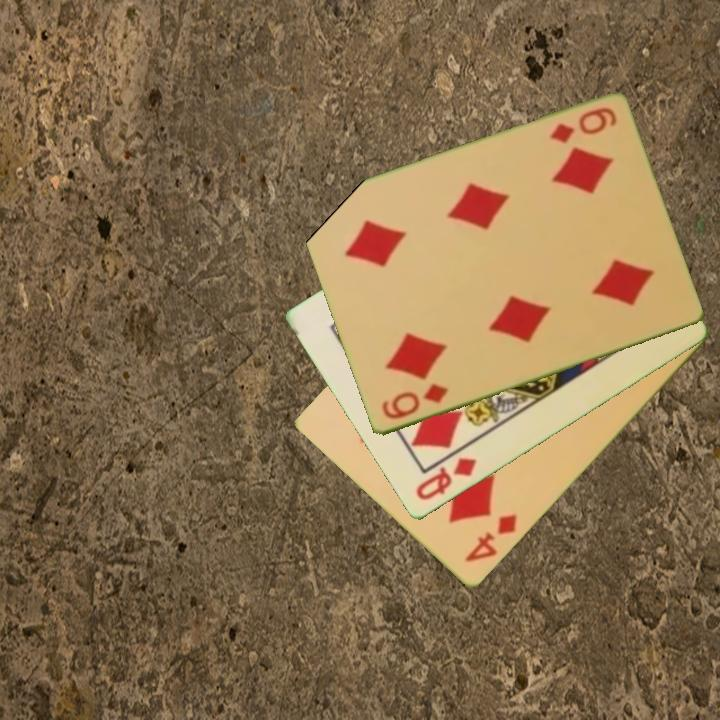4d: (461, 511, 520, 566)
6d: (545, 104, 620, 147), (377, 380, 451, 423)
Qd: (412, 454, 480, 504)
